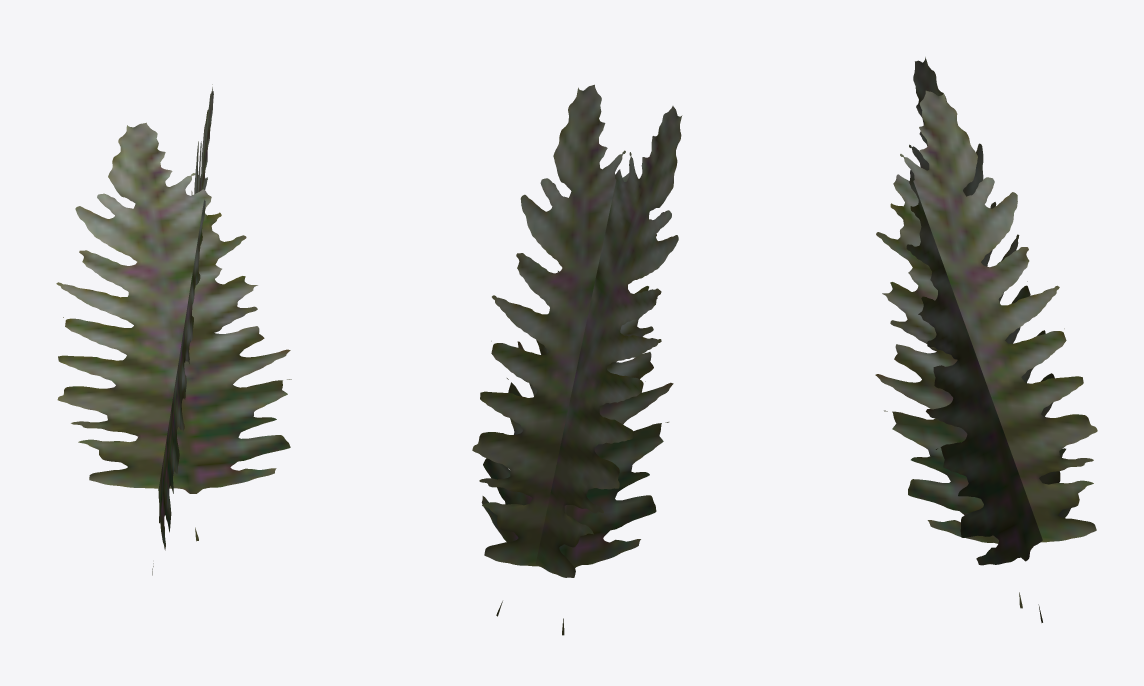
The picture shows the model from 3 angles, left to right: view 1: azimuth 30°, elevation 25°; view 2: azimuth 150°, elevation 25°; view 3: azimuth 270°, elevation 25°; orthographic projection. The views are drawn at different scales.
Parts seen in each view (by area): view 1: polySurface9; view 2: polySurface9; view 3: polySurface9.
Boxes of the visible parts, x1,y1,x2,y2 form: polySurface9: (56,84,291,575); polySurface9: (472,84,682,635); polySurface9: (875,57,1097,622).
Size of the model in its own units: 3.77 by 5.76 by 3.3.
